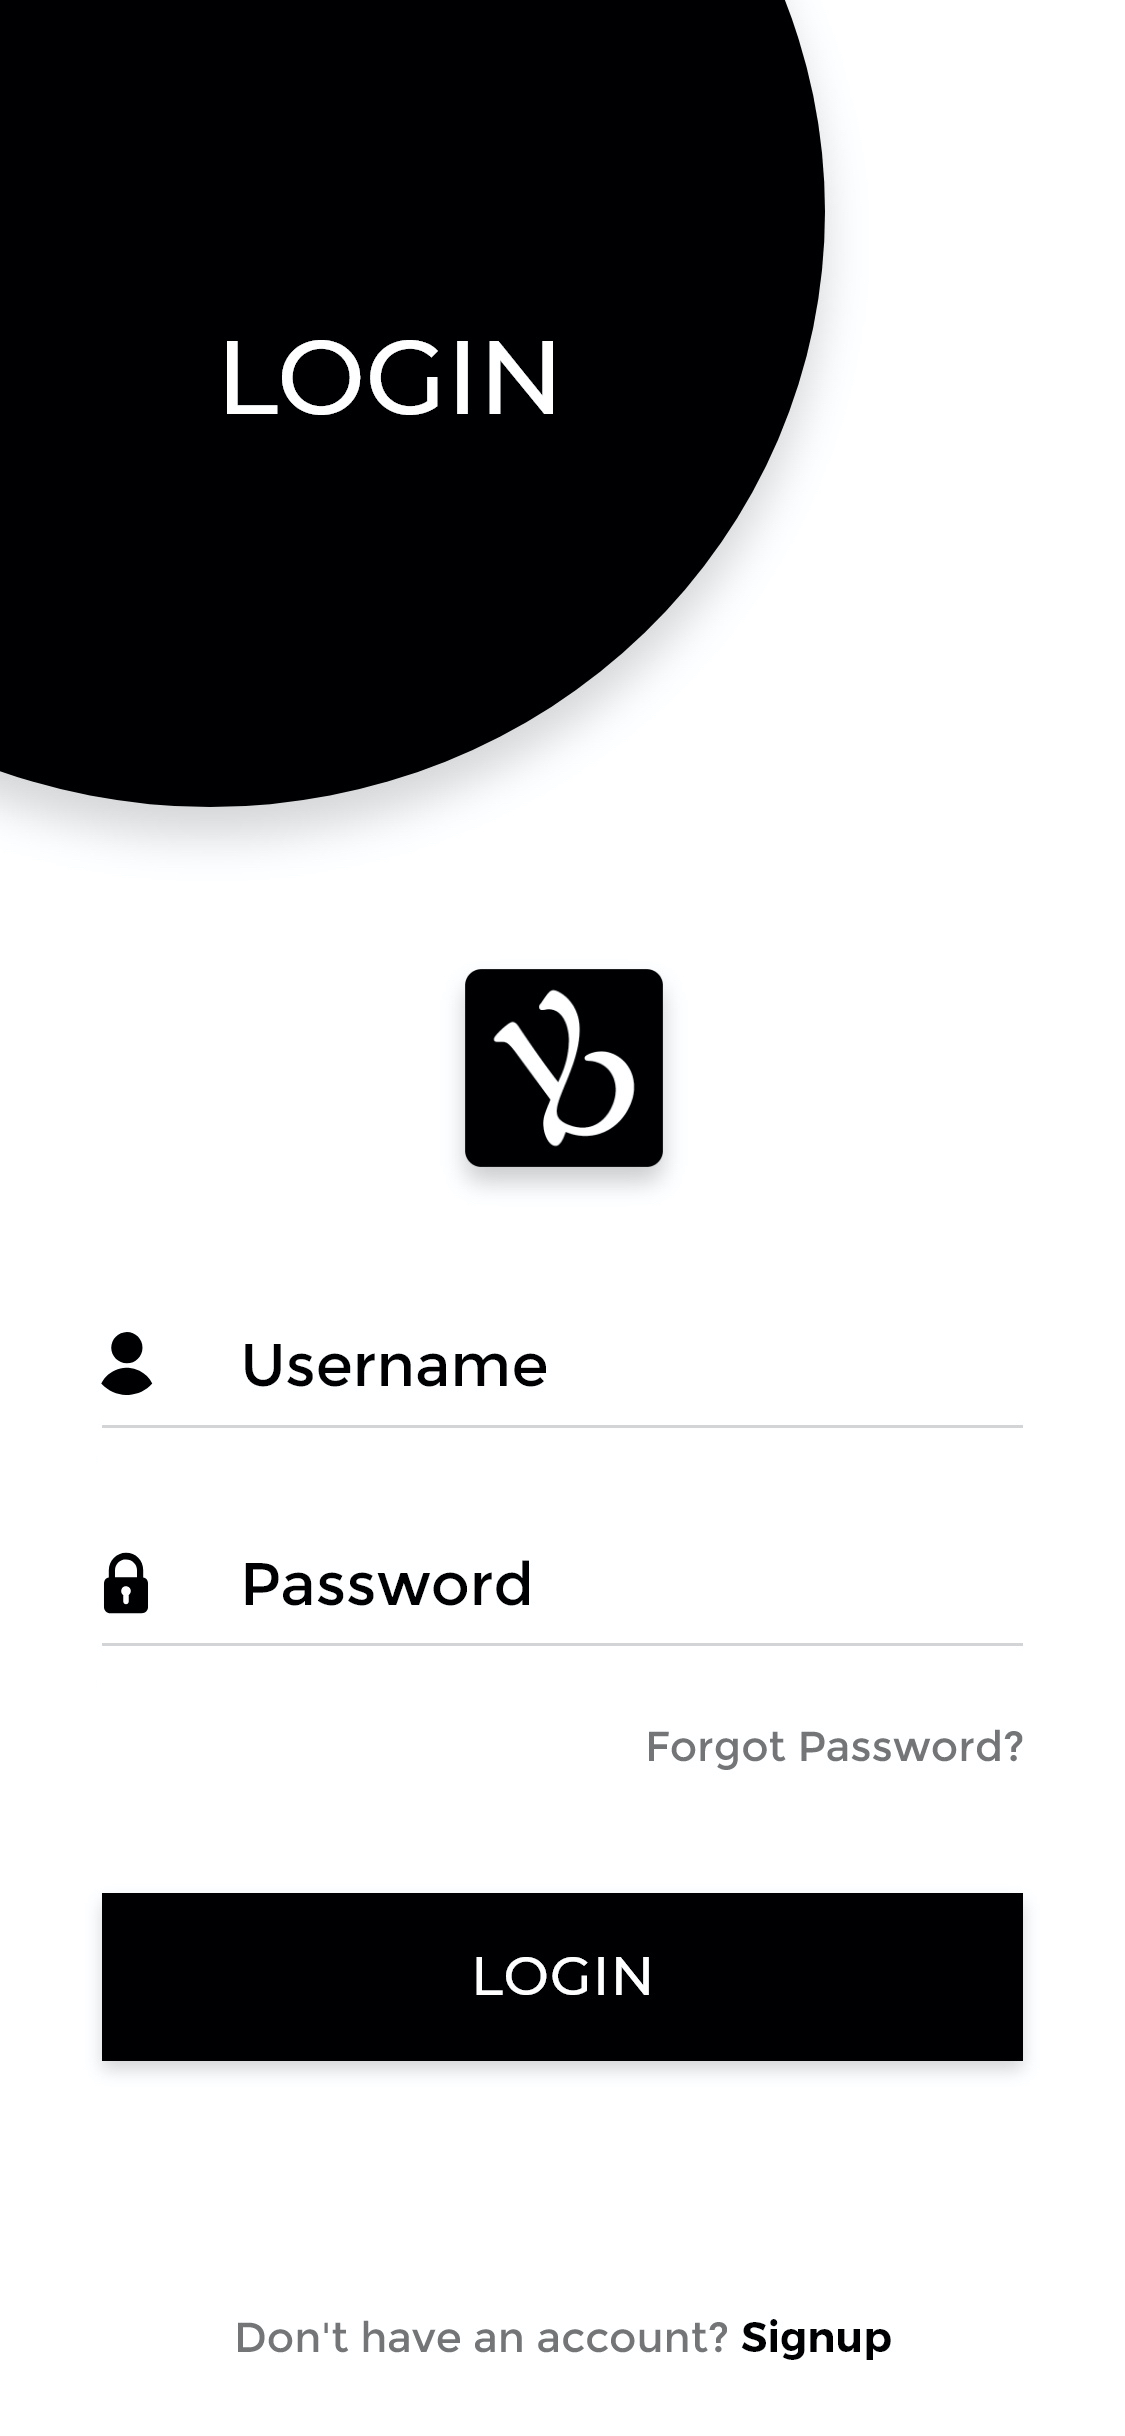EditText: (101, 1331, 1024, 1429), (103, 1552, 1024, 1648)
Icon: (103, 1331, 154, 1397), (104, 1552, 149, 1616)
Image: (465, 969, 664, 1168)
Text: (238, 2318, 892, 2361), (227, 340, 555, 416), (648, 1729, 1022, 1771), (244, 1342, 547, 1389), (246, 1558, 531, 1606)
TextButton: (103, 1892, 1024, 2062)
